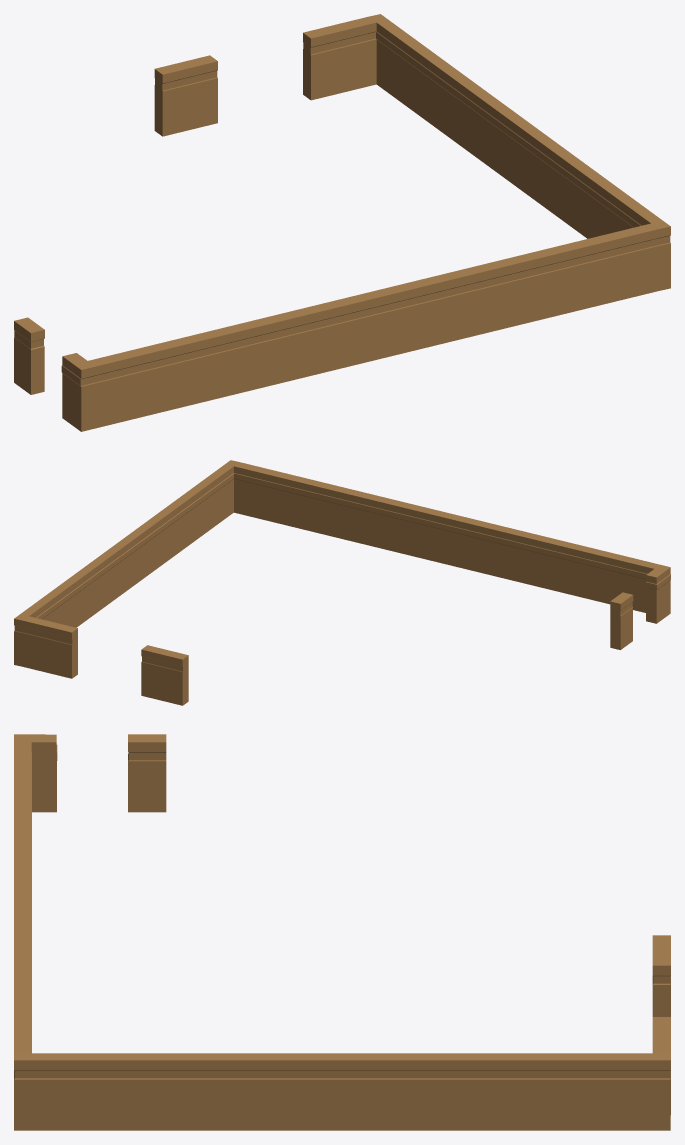
File: SmallBuildingWall.fbx
The picture shows the model from 3 angles, top to bottom: view 1: azimuth 30°, elevation 25°; view 2: azimuth 150°, elevation 25°; view 3: azimuth 270°, elevation 25°; orthographic projection. The views are drawn at different scales.
Parts seen in each view (by area): view 1: SmallBuildingWall_LOD0; view 2: SmallBuildingWall_LOD0; view 3: SmallBuildingWall_LOD0.
Part boxes in pixels (<box>): SmallBuildingWall_LOD0: <box>14,14,670,431</box>; SmallBuildingWall_LOD0: <box>14,460,670,705</box>; SmallBuildingWall_LOD0: <box>14,734,670,1130</box>.
Size of what is drawn, in the model's own units: 2632 by 266 by 2243.
Materials: 1 (1 with a texture image).
